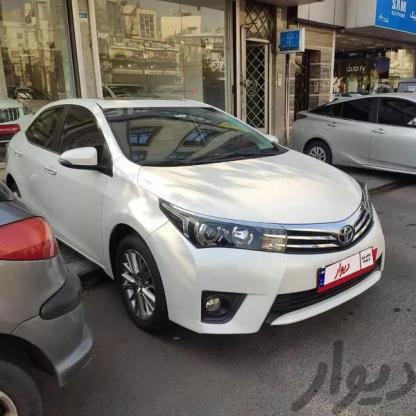Car: (0, 91, 389, 342), (0, 174, 98, 390), (305, 56, 416, 206)
